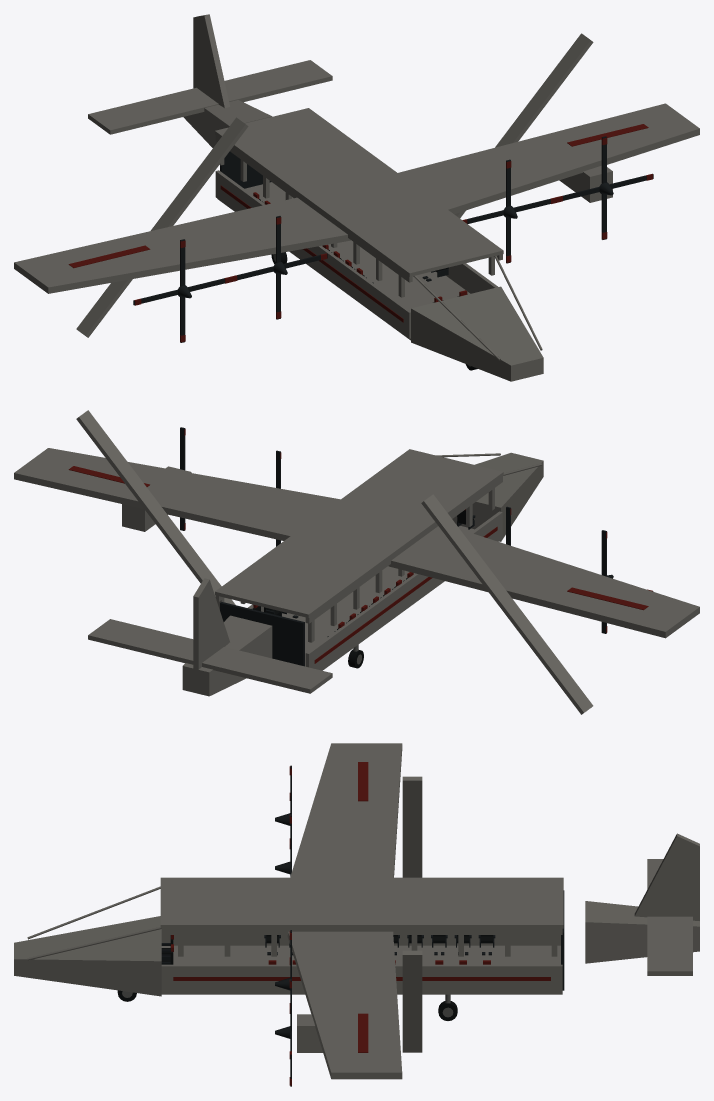
3 renders of one model, top to bottom at view 1: azimuth 30°, elevation 25°; view 2: azimuth 150°, elevation 25°; view 3: azimuth 270°, elevation 25°, orthographic. The views are drawn at different scales.
Parts seen in each view (by area): view 1: troop-plane-painted, transport-roof-painted, flap--1-painted, flap-1-painted, propeller-1-11-painted, propeller--1-11-painted, propeller--1-6-painted, propeller-1-6-painted, transport-ramp-painted; view 2: troop-plane-painted, transport-roof-painted, flap--1-painted, flap-1-painted, transport-ramp-painted, crew-seating-batch-painted; view 3: troop-plane-painted, transport-roof-painted, flap-1-painted, flap--1-painted, crew-seating-batch-painted.
Part boxes in pixels (x1,y1,x2,y2): troop-plane-painted: (14,14,699,381); transport-roof-painted: (215,108,503,297); flap--1-painted: (76,117,248,337); flap-1-painted: (454,33,593,218); propeller-1-11-painted: (556,136,653,239); propeller--1-11-painted: (133,239,231,342); propeller--1-6-painted: (230,216,327,319); propeller-1-6-painted: (462,159,557,263); transport-ramp-painted: (220,151,271,188); troop-plane-painted: (14,448,699,696); transport-roof-painted: (215,449,503,642); flap--1-painted: (421,494,593,714); flap-1-painted: (76,410,235,605); transport-ramp-painted: (220,602,304,666); crew-seating-batch-painted: (253,509,475,636); troop-plane-painted: (14,743,699,1079); transport-roof-painted: (160,877,563,956); flap-1-painted: (402,950,422,1052); flap--1-painted: (402,776,422,877); crew-seating-batch-painted: (161,935,495,964).
Bounding box in the file's own units: 179 × 46.12 × 158.
